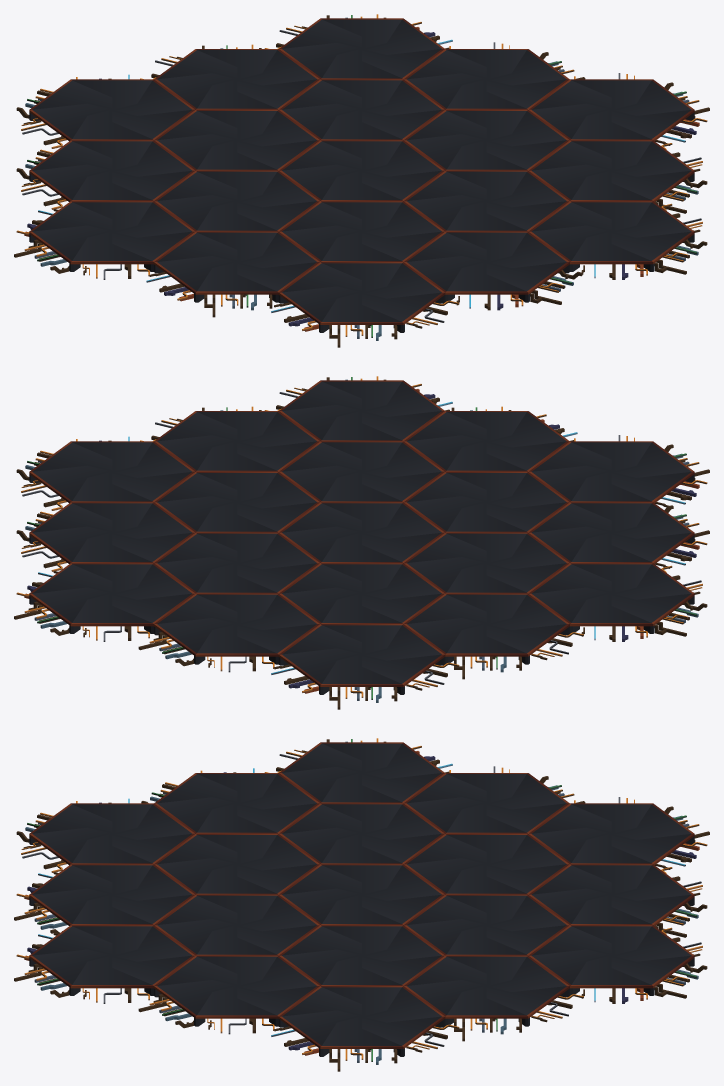
The model's file is hex_plate_combine.fbx.
The picture shows the model from 3 angles, top to bottom: view 1: azimuth 30°, elevation 25°; view 2: azimuth 150°, elevation 25°; view 3: azimuth 270°, elevation 25°; orthographic projection.
Visible parts, largest first — view 1: Circle.031; view 2: Circle.031; view 3: Circle.031.
Boxes of the visible parts, left/top/right/bottom form: Circle.031: left=14, top=14, right=709, bottom=347; Circle.031: left=14, top=376, right=709, bottom=709; Circle.031: left=14, top=738, right=709, bottom=1071.
Size of the model in its own units: 6990 by 131 by 6274.
